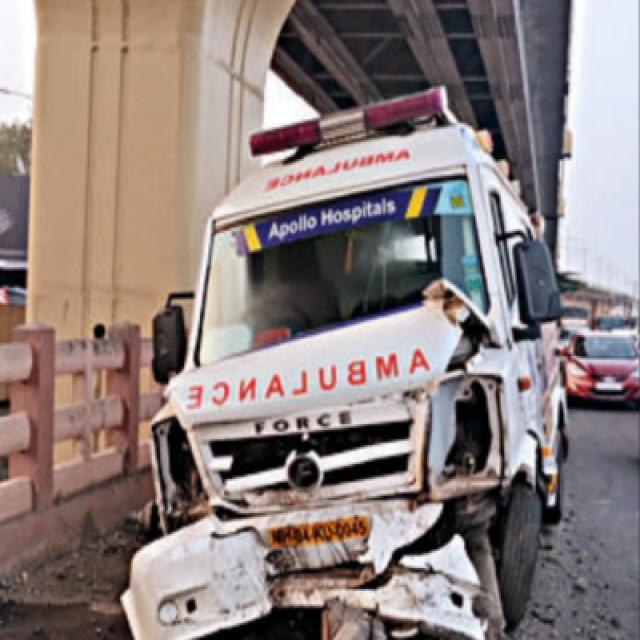accident: (122, 87, 565, 639)
car: (561, 331, 640, 402)
